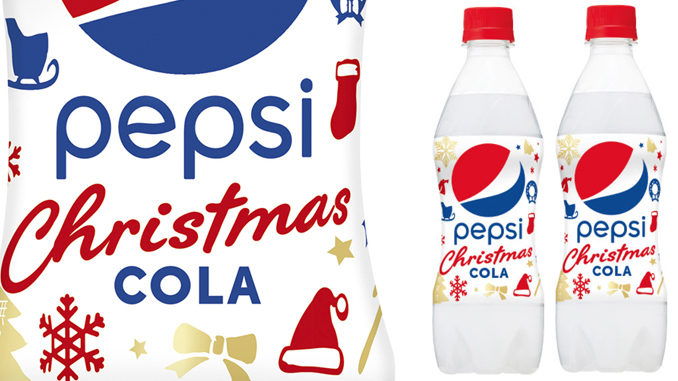pepsi: (567, 138, 648, 214), (446, 141, 525, 216), (450, 141, 525, 216), (574, 140, 648, 214)
